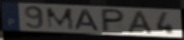4: (154, 11, 177, 36)
9: (24, 5, 46, 30)
A: (126, 10, 155, 35), (74, 9, 101, 32)
M: (45, 7, 77, 31)
P: (100, 8, 127, 34)
